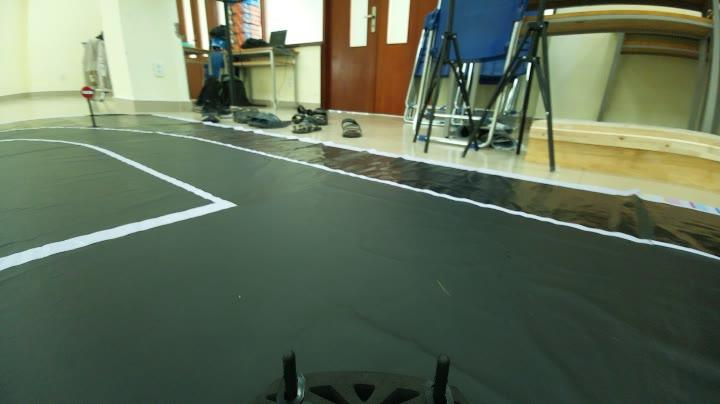no_entry: (77, 76, 94, 102)
